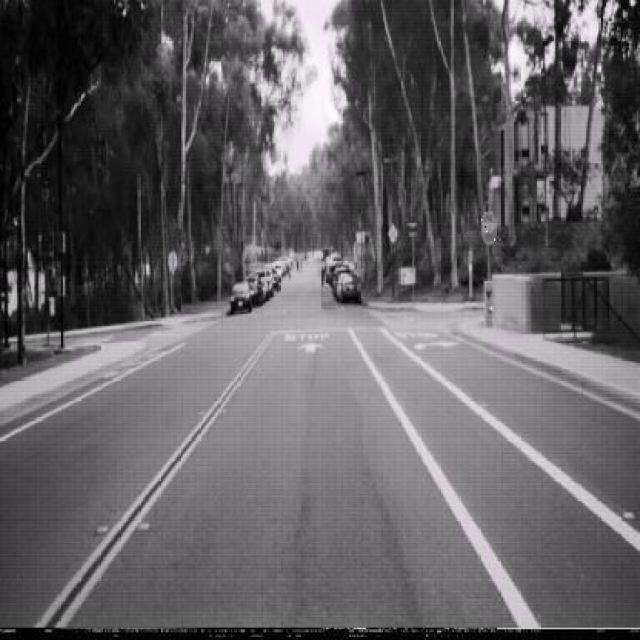stop: (480, 209, 497, 244)
